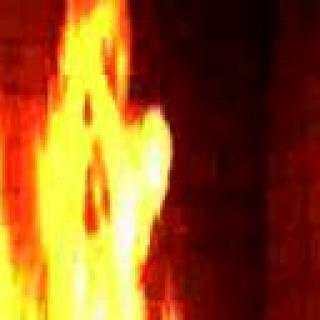fire: (0, 20, 197, 320)
